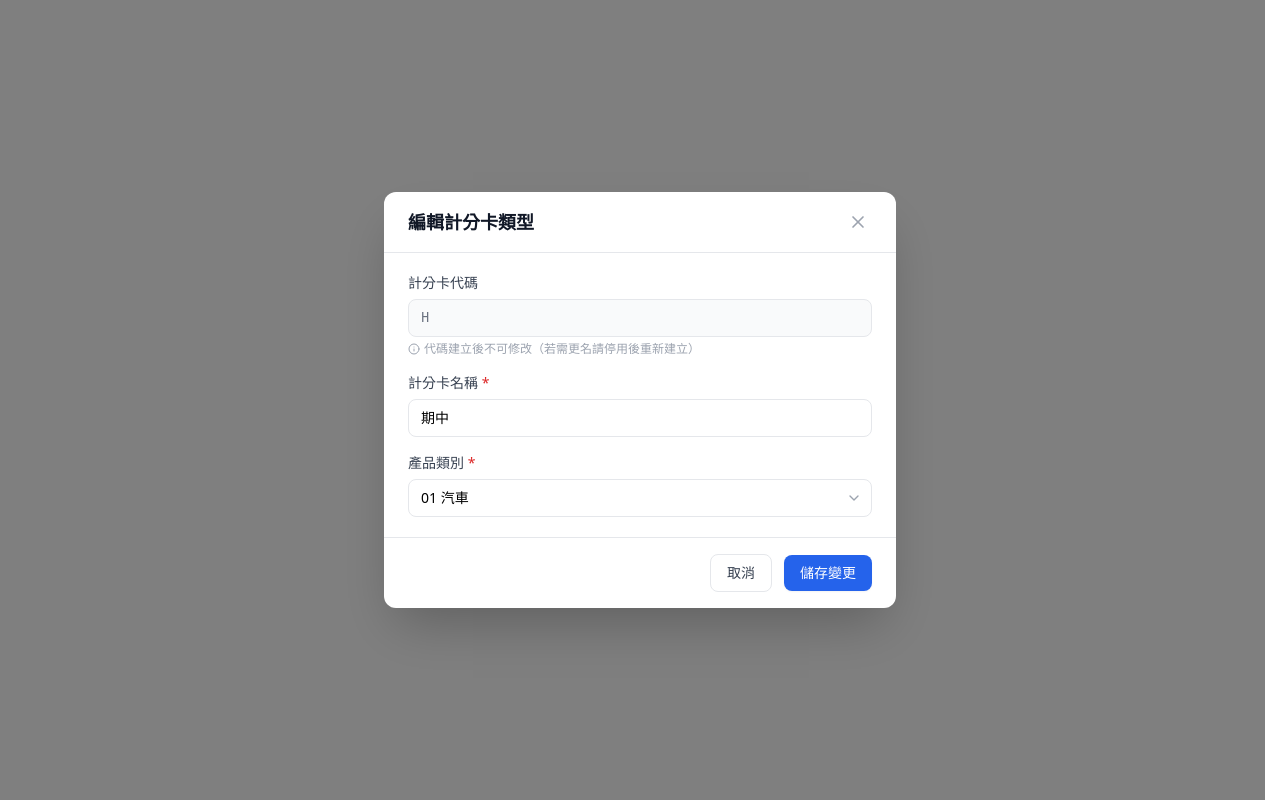
Scenario: EditCardTypeModal — F071 › cardName 清空 → 行內錯誤，不送 API
This screenshot has width=1280, height=800.
Step 1. Clear the field labelled "計分卡名稱 *" → (640, 418), box [408, 399, 872, 437]
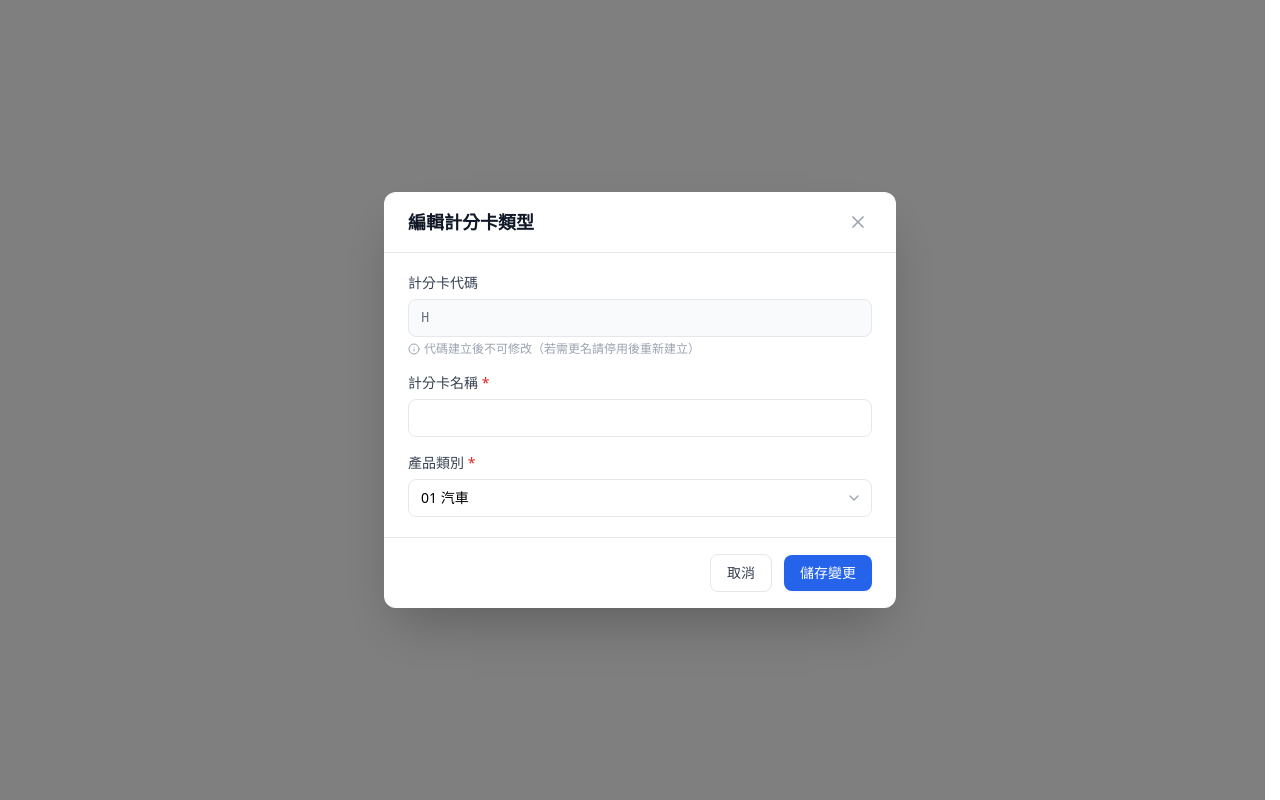
Step 2. Click the button "儲存變更" → click(828, 573), box [784, 555, 872, 591]
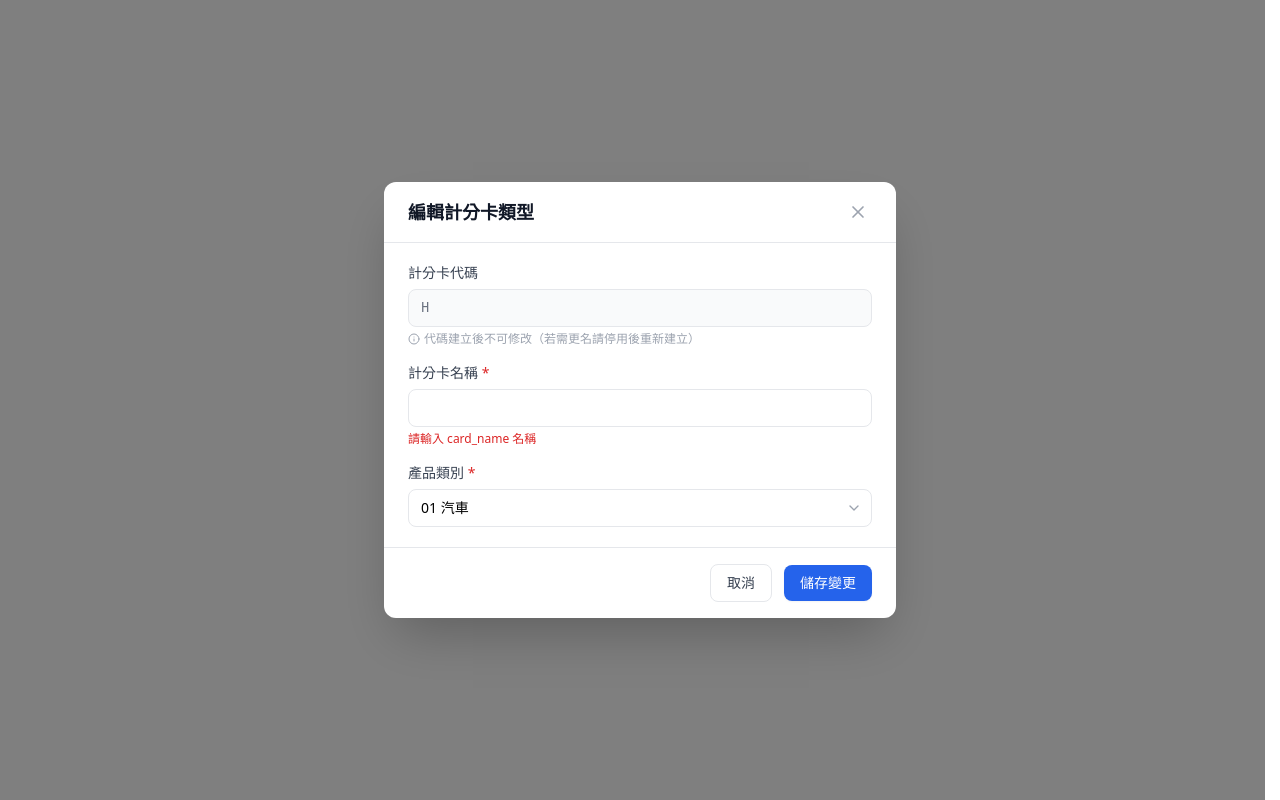
expect the text "請輸入 card_name 名稱" is shown: met, box [408, 430, 536, 447]
